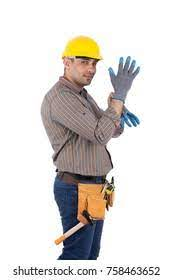Helmet: (58, 31, 106, 67)
No-jacket: (33, 77, 123, 187)
gloves: (110, 58, 147, 108)
